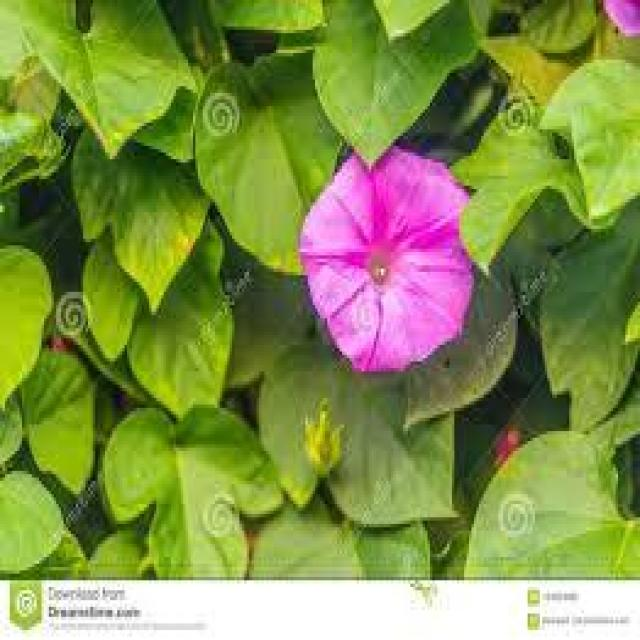organic waste: (296, 139, 491, 375)
